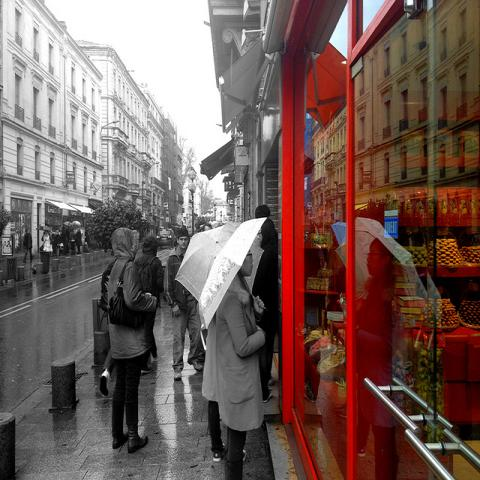car: (156, 229, 177, 249)
